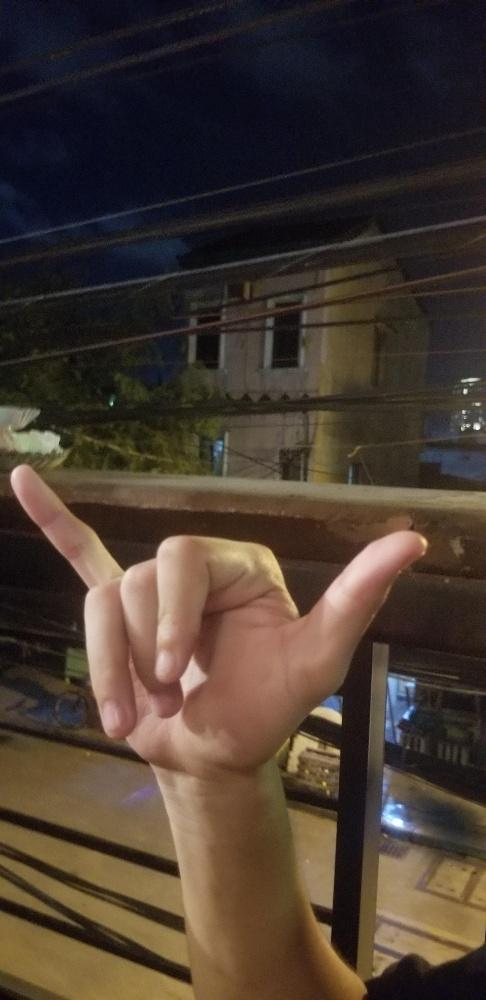y: (7, 459, 429, 778)
